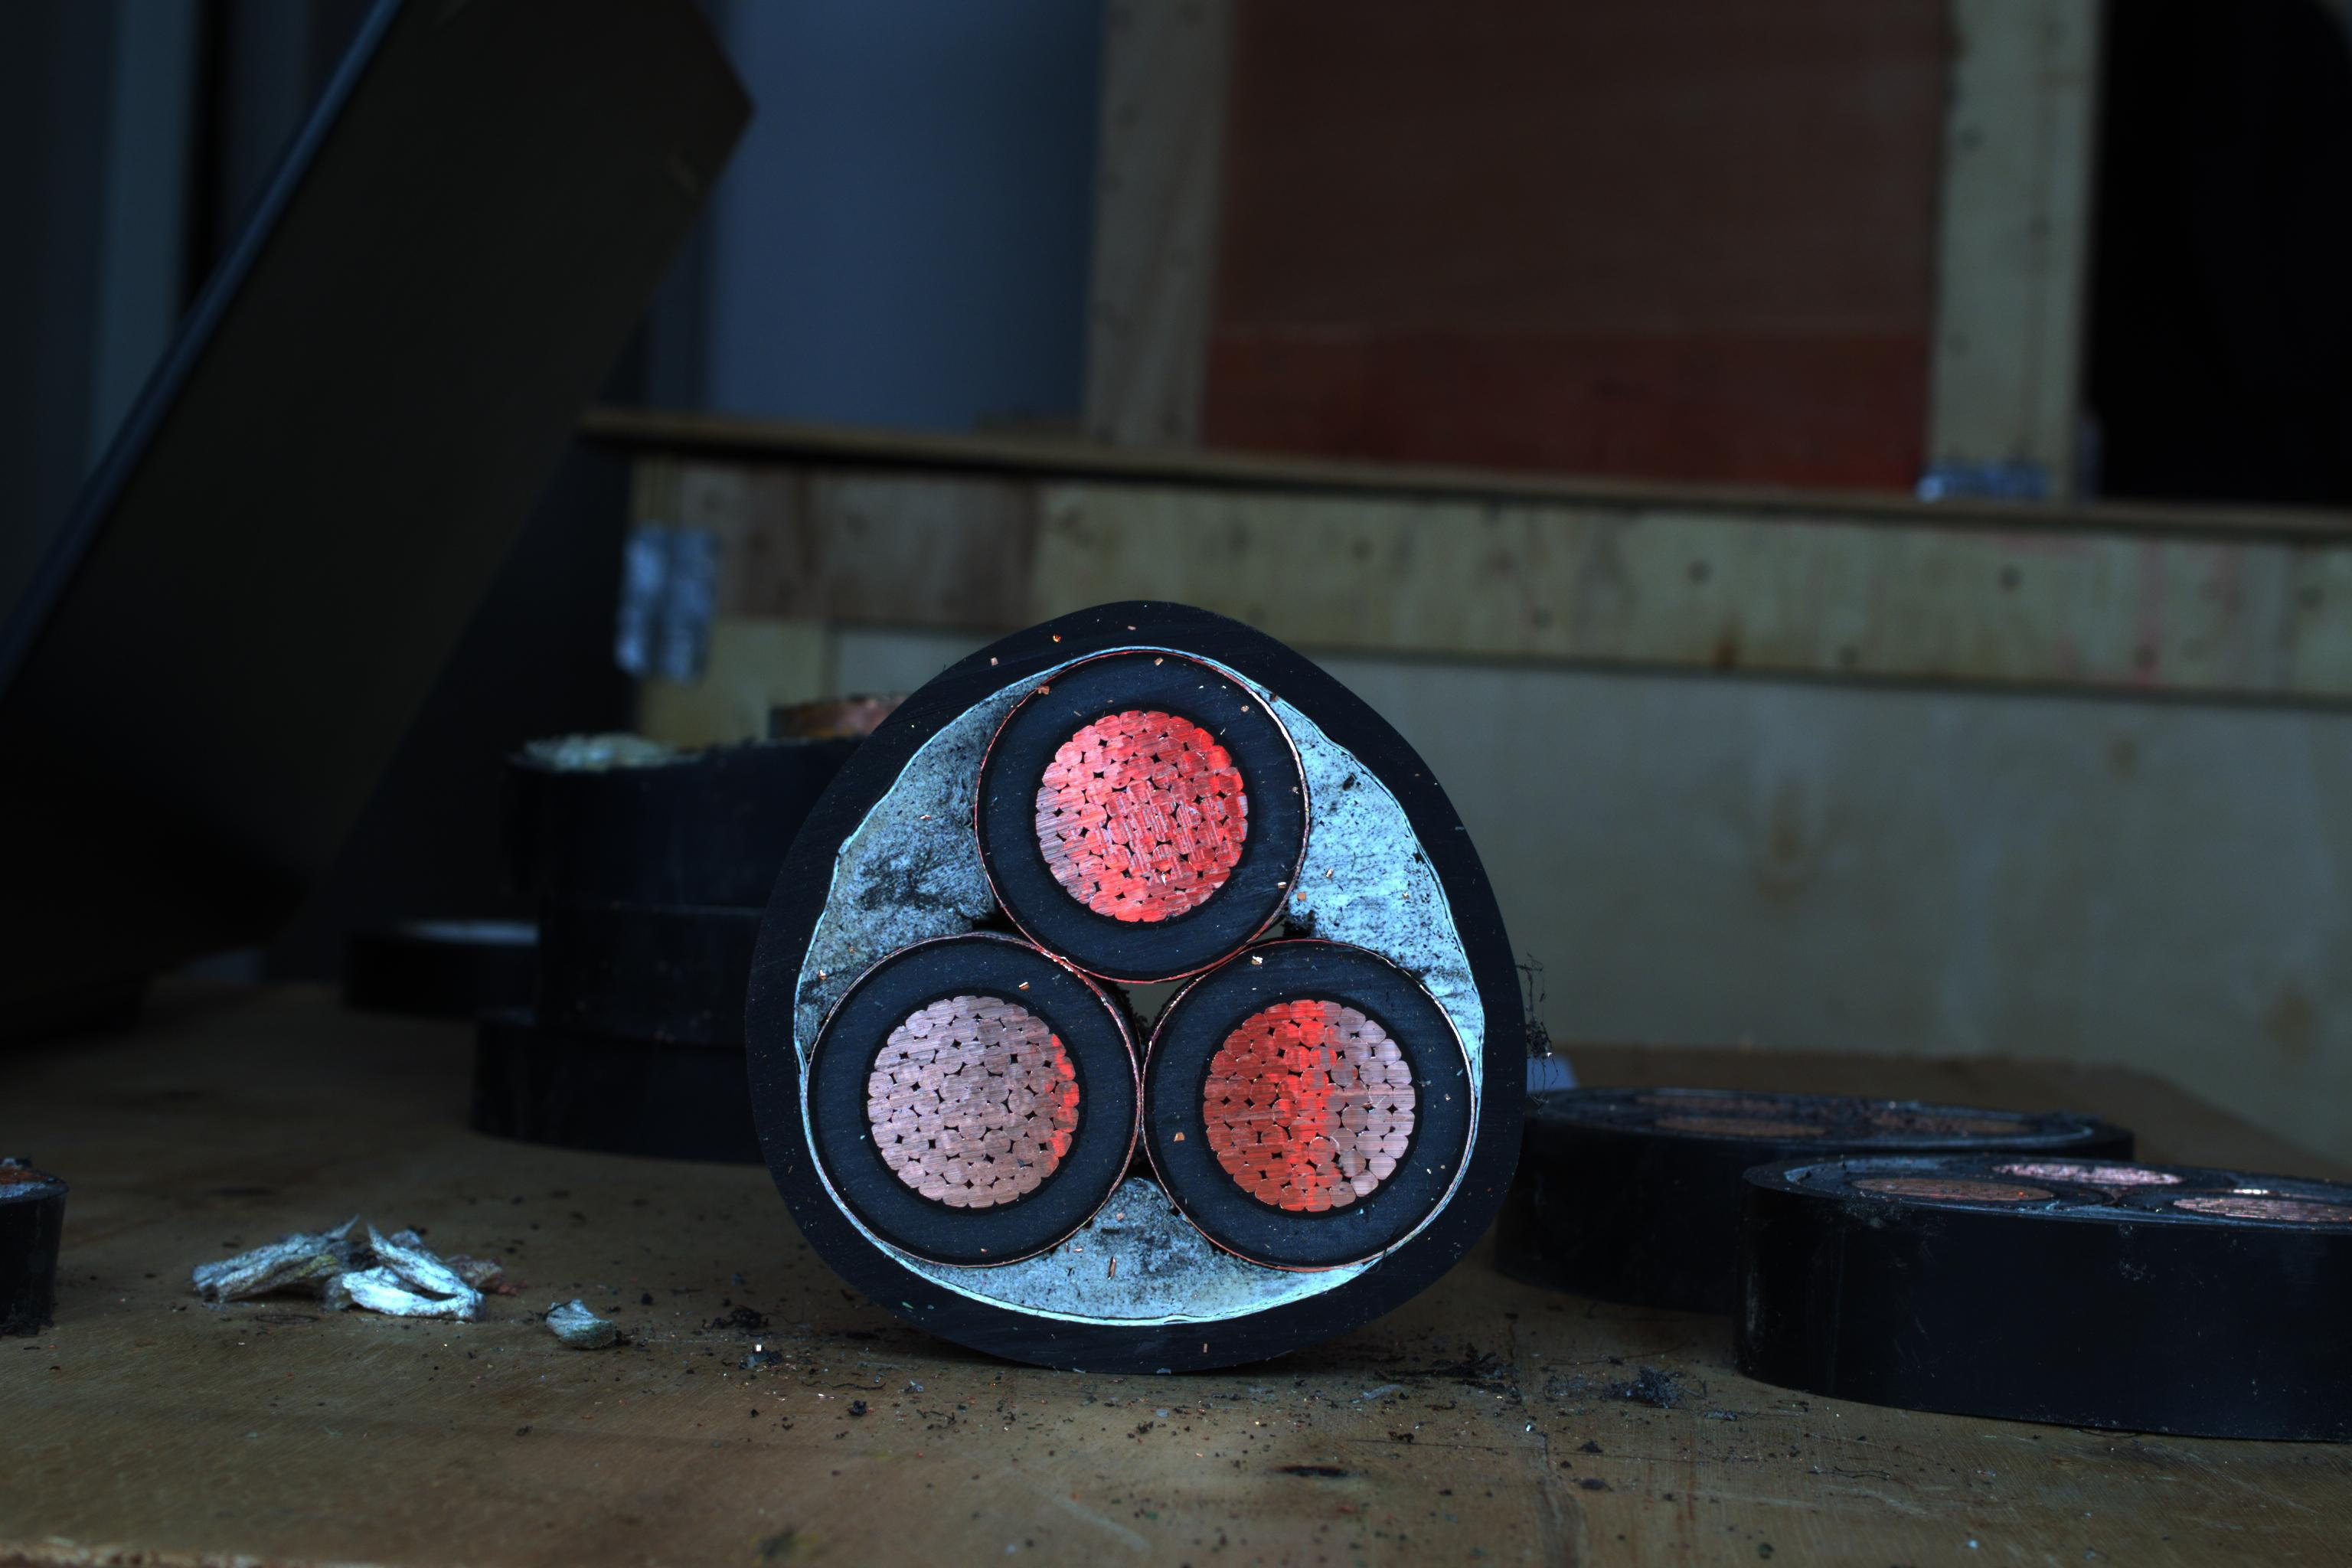ZA_YJV_8.7_10kV_3x400: (782, 595, 1507, 1358)
